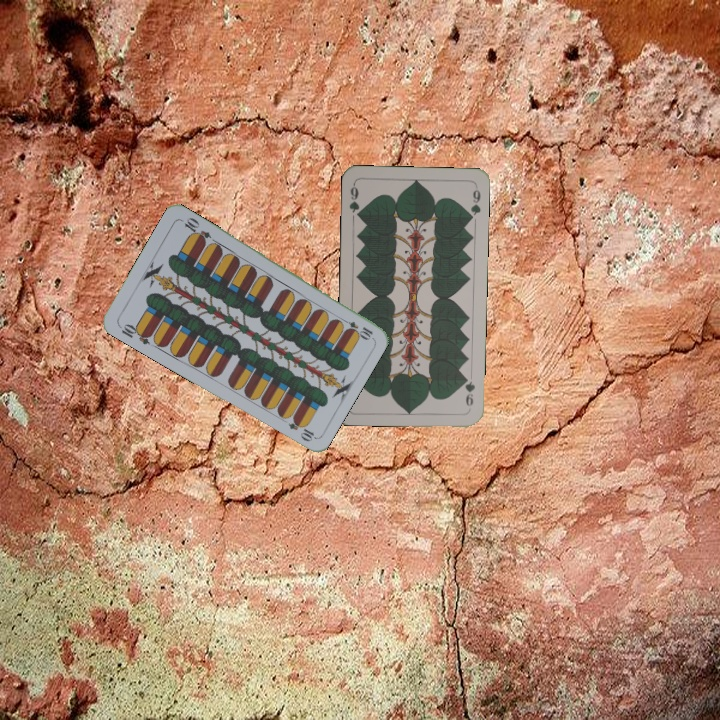E10: (115, 319, 154, 347), (337, 314, 376, 341)
G9: (345, 180, 364, 221), (460, 372, 477, 409)
